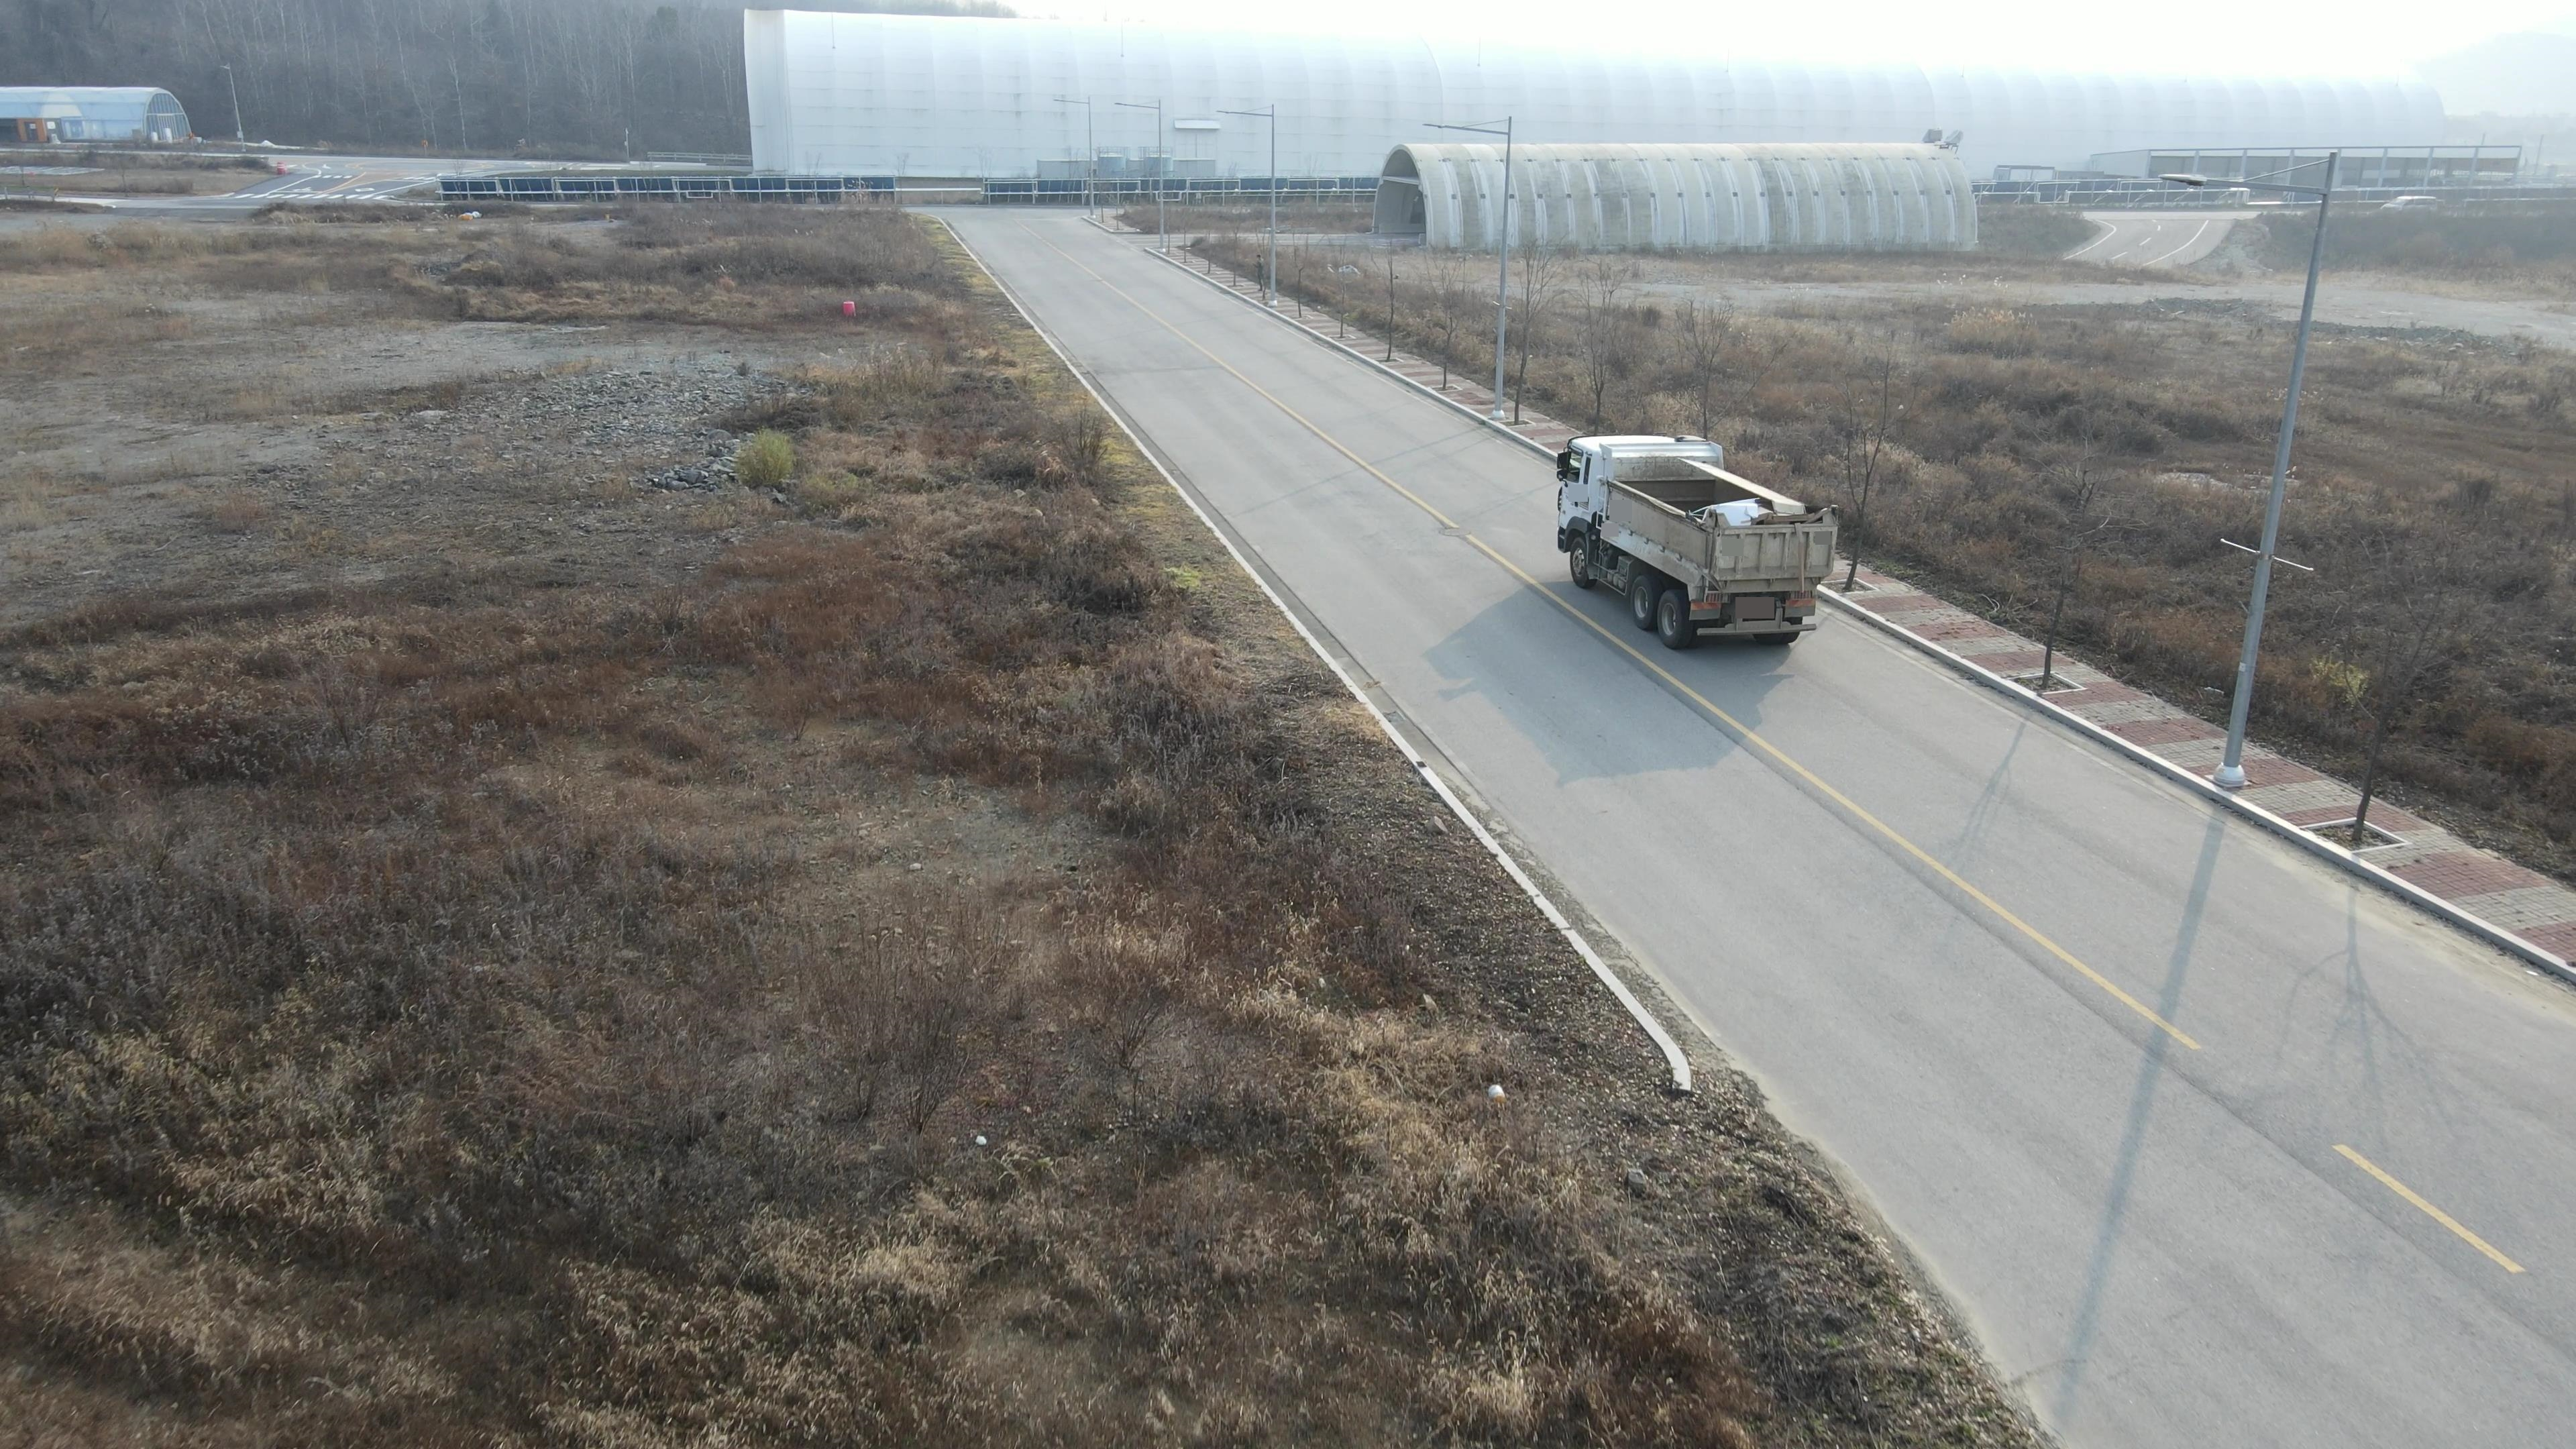불법차량: (1557, 435, 1840, 649)
